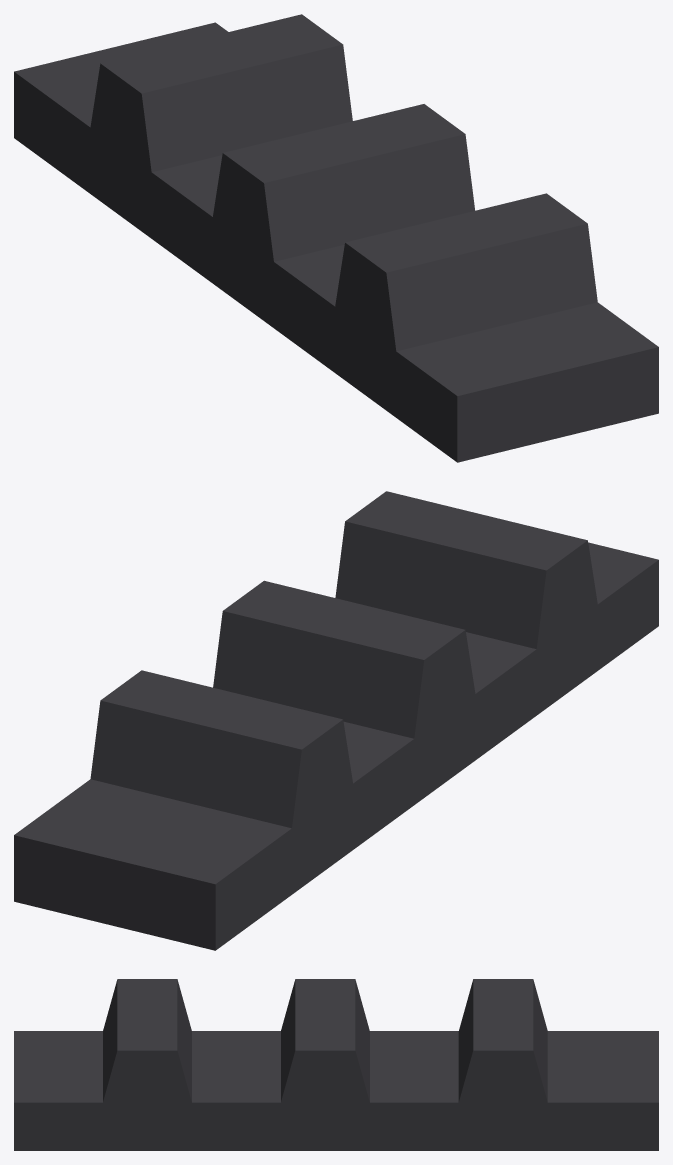
Rendered from city_SM_Wep_Attachment_Rack_01.gltf.
3 views of the same model, one above another, from view 1: azimuth 30°, elevation 25°; view 2: azimuth 150°, elevation 25°; view 3: azimuth 270°, elevation 25° (orthographic). The views are drawn at different scales.
Parts seen in each view (by area): view 1: SM_Wep_Attachment_Rack_01; view 2: SM_Wep_Attachment_Rack_01; view 3: SM_Wep_Attachment_Rack_01.
Boxes of the visible parts, x1=… form: SM_Wep_Attachment_Rack_01: x1=14, y1=14, x2=658, y2=462; SM_Wep_Attachment_Rack_01: x1=14, y1=491, x2=658, y2=950; SM_Wep_Attachment_Rack_01: x1=14, y1=979, x2=658, y2=1150.
Bounding box in the file's own units: 0.0222 × 0.0145 × 0.0845.
Materials: 1 (1 with a texture image).
